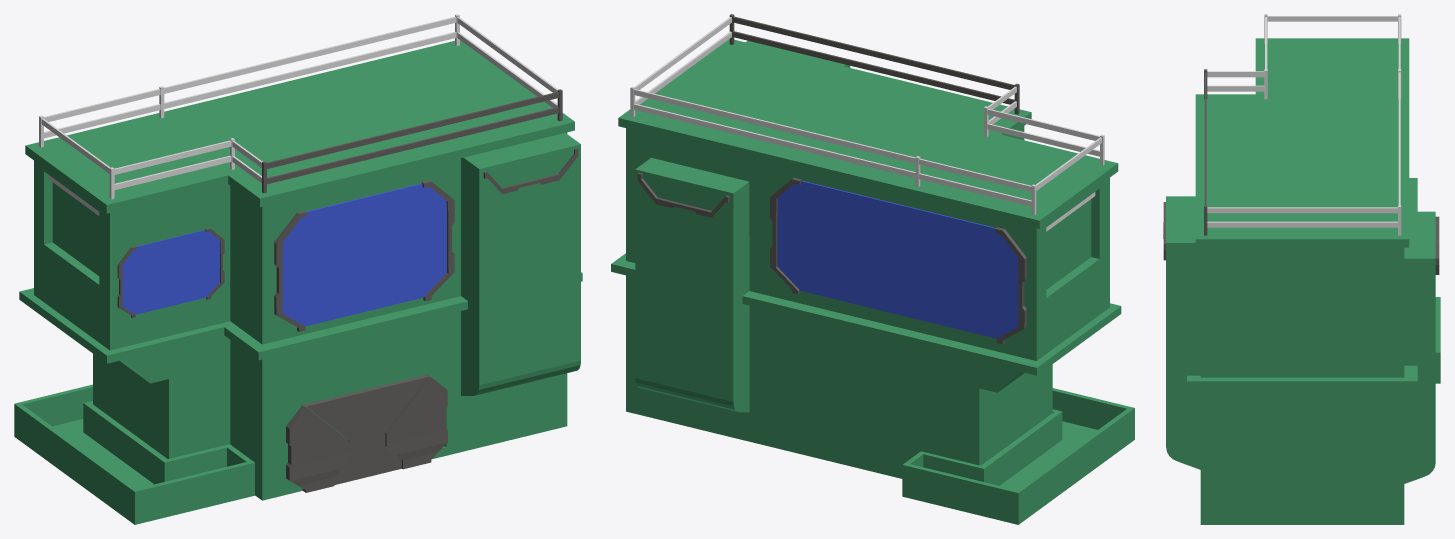
File: Construccion.glb
3 renders of one model, left to right at view 1: azimuth 30°, elevation 25°; view 2: azimuth 150°, elevation 25°; view 3: azimuth 270°, elevation 25°, orthographic. The views are drawn at different scales.
Visible parts, largest first — view 1: Techo, Piso1, Piso 2, Cube.005, Cube.031, Cube.002, Piso 2.001, Cube.032, Cube.028, Cube.027, Cube.026, Cube.017 (+11 smaller); view 2: Techo, Piso1, Cube.035, Cube.036, Piso 2, Cube.002, Piso 2.001, Cube.016, Cube.017, Cube.014, Cube.015, Cube.037 (+7 smaller); view 3: Techo, Piso1, Piso 2, Cube.005, Cube.035, Piso 2.001, Cube.020, Cube.021, Cube.019, Cube.017, Cube.002, Cube.024 (+2 smaller).
Part boxes in pixels (x1=…): Techo: x1=25, y1=40, x2=574, y2=213; Piso1: x1=93, y1=311, x2=567, y2=500; Piso 2: x1=34, y1=132, x2=567, y2=350; Cube.005: x1=461, y1=133, x2=580, y2=395; Cube.031: x1=282, y1=183, x2=446, y2=326; Cube.002: x1=14, y1=384, x2=254, y2=524; Piso 2.001: x1=19, y1=272, x2=582, y2=363; Cube.032: x1=122, y1=230, x2=219, y2=314; Cube.028: x1=304, y1=375, x2=428, y2=484; Cube.027: x1=286, y1=404, x2=350, y2=492; Cube.026: x1=385, y1=374, x2=447, y2=469; Cube.017: x1=44, y1=16, x2=456, y2=121; Techo: x1=618, y1=39, x2=1118, y2=228; Piso1: x1=626, y1=275, x2=1052, y2=478; Cube.035: x1=635, y1=157, x2=749, y2=412; Cube.036: x1=777, y1=180, x2=1018, y2=338; Piso 2: x1=626, y1=126, x2=1109, y2=360; Cube.002: x1=902, y1=388, x2=1134, y2=524; Piso 2.001: x1=611, y1=253, x2=1121, y2=375; Cube.016: x1=634, y1=103, x2=1031, y2=206; Cube.017: x1=634, y1=89, x2=1031, y2=191; Cube.014: x1=733, y1=16, x2=1014, y2=89; Cube.015: x1=733, y1=31, x2=1014, y2=104; Cube.037: x1=995, y1=227, x2=1026, y2=344; Techo: x1=1195, y1=38, x2=1409, y2=247; Piso1: x1=1200, y1=389, x2=1404, y2=524; Piso 2: x1=1200, y1=247, x2=1404, y2=377; Cube.005: x1=1166, y1=196, x2=1200, y2=469; Cube.035: x1=1404, y1=211, x2=1435, y2=483; Piso 2.001: x1=1187, y1=178, x2=1417, y2=388; Cube.020: x1=1207, y1=207, x2=1397, y2=213; Cube.021: x1=1207, y1=221, x2=1397, y2=227; Cube.019: x1=1267, y1=16, x2=1397, y2=21; Cube.017: x1=1398, y1=17, x2=1400, y2=205; Cube.002: x1=1435, y1=297, x2=1440, y2=383; Cube.024: x1=1207, y1=71, x2=1264, y2=77.
Size of the model in its own units: 28.01 by 20.32 by 16.13.
